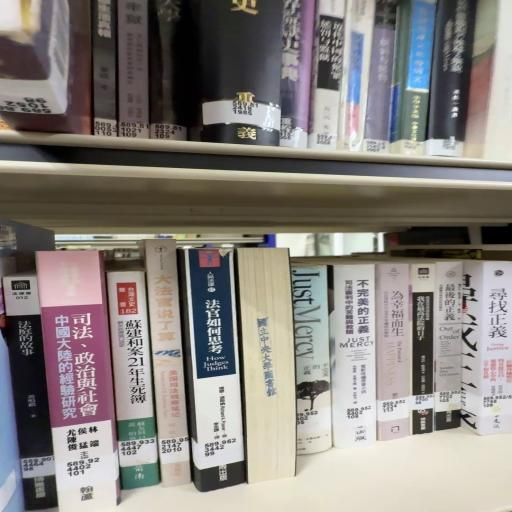backward: (234, 248, 295, 488)
book: (34, 251, 119, 512), (184, 249, 248, 494), (107, 268, 161, 490), (144, 248, 189, 492), (295, 262, 335, 462), (396, 1, 438, 145), (367, 1, 404, 153)
